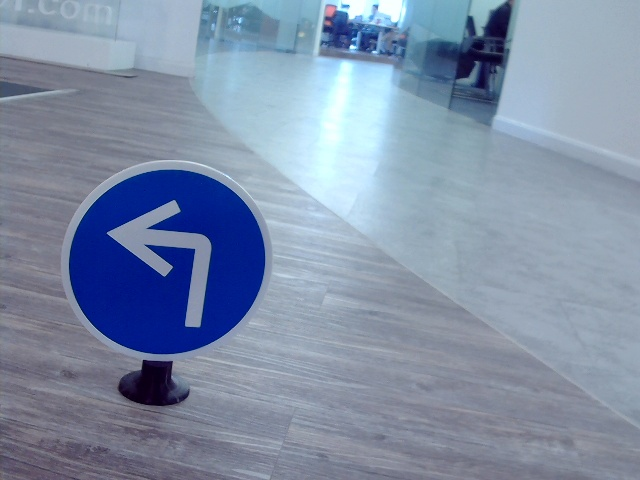turn_left: (103, 195, 212, 325)
